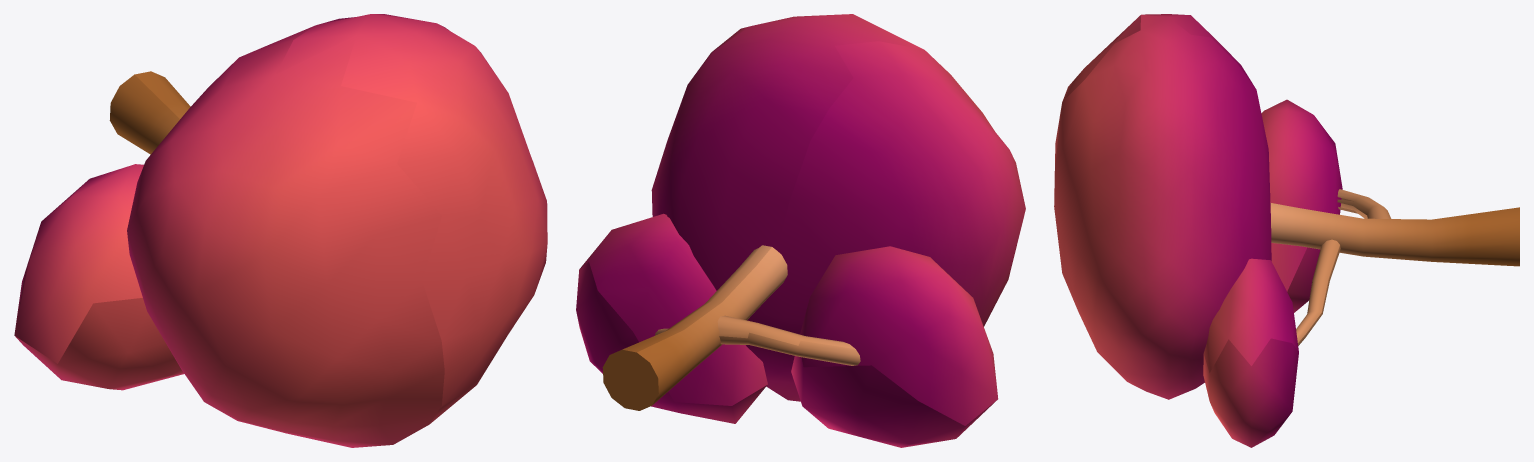
File: tree.glb
3 views of the same model, side by side, from view 1: azimuth 30°, elevation 25°; view 2: azimuth 150°, elevation 25°; view 3: azimuth 270°, elevation 25° (orthographic). The views are drawn at different scales.
Visible parts, largest first — view 1: Props_Color_3_Mat.020; view 2: Props_Color_3_Mat.020; view 3: Props_Color_3_Mat.020.
Part boxes in pixels (left/top/right/bottom): Props_Color_3_Mat.020: left=14, top=14, right=547, bottom=447; Props_Color_3_Mat.020: left=576, top=14, right=1025, bottom=447; Props_Color_3_Mat.020: left=1054, top=14, right=1519, bottom=447.
Bounding box in the file's own units: 452 × 377 × 454.
1 material, 1 textured.
